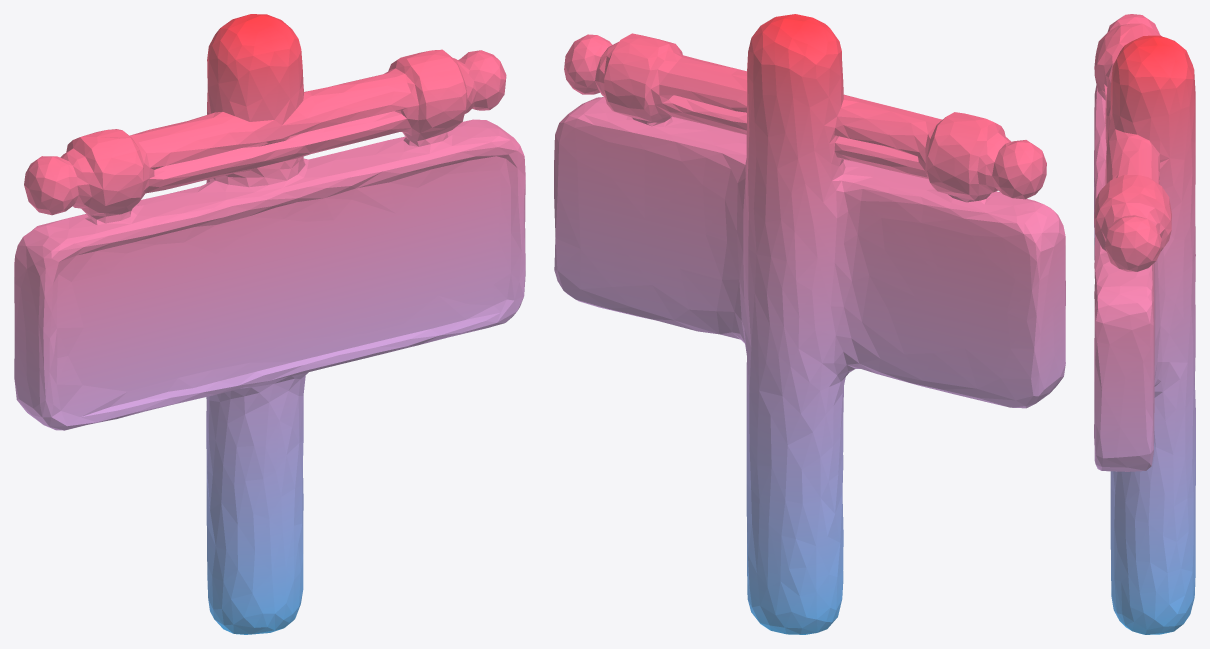
Rendered from 155_cyb_laser_gradient_fish_scales_2820_2026_10_03_db8d1b.glb.
3 renders of one model, left to right at view 1: azimuth 30°, elevation 25°; view 2: azimuth 150°, elevation 25°; view 3: azimuth 270°, elevation 25°, orthographic. The views are drawn at different scales.
Visible parts, largest first — view 1: geometry_0; view 2: geometry_0; view 3: geometry_0.
Part boxes in pixels (x1,y1,x2,y2): geometry_0: [14, 14, 525, 634]; geometry_0: [554, 14, 1065, 634]; geometry_0: [1094, 14, 1195, 634].
Bounding box in the file's own units: 0.846 × 1 × 0.1593.
